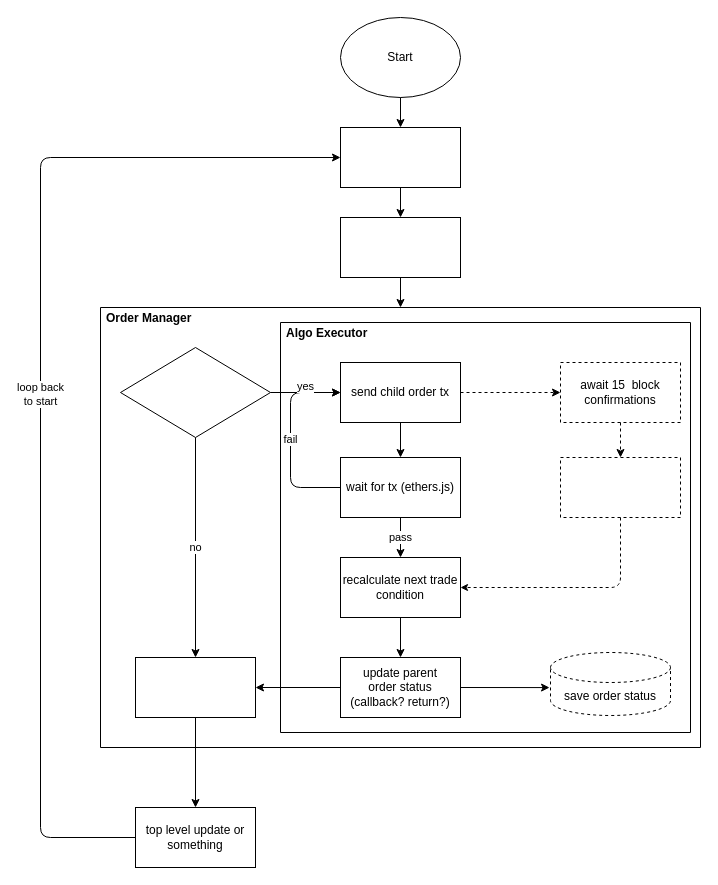
The diagram is 718 pixels wide and 885 high, and some of its shapes have lost their labels. The centre of each missing label's shape, as x and y in pixels:
"check for change in tx response" belongs at (620,487).
"check for open orders" belongs at (400,247).
"end order[i] loop" belongs at (195,687).
"order[i]: condition to trade?" belongs at (195,392).
"trade prechecks (gas, collateral, margin)" belongs at (400,157).
